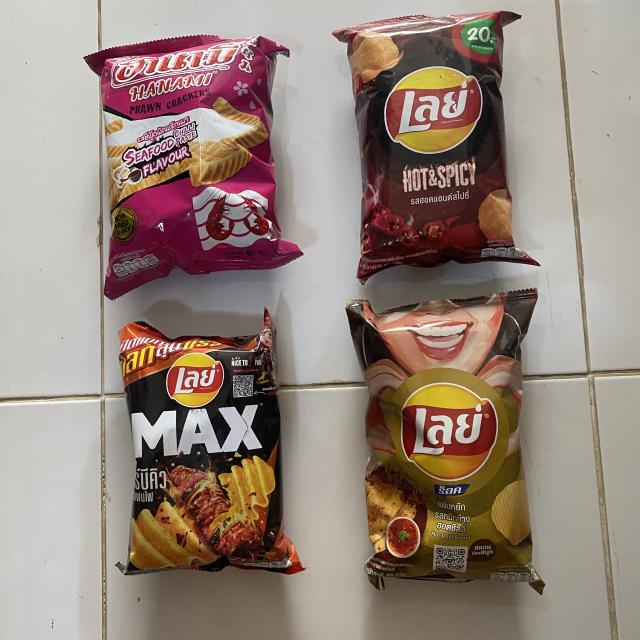plastik: (346, 289, 544, 592), (85, 35, 301, 299), (335, 11, 538, 282), (118, 310, 301, 574)
